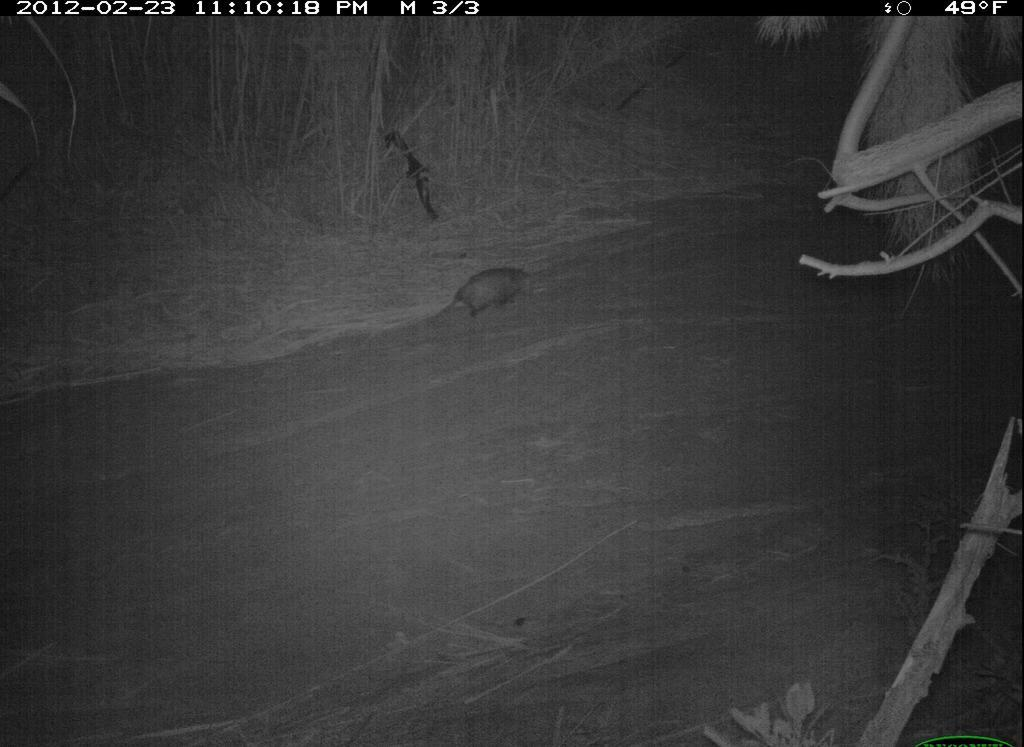opossum: (408, 259, 552, 341)
